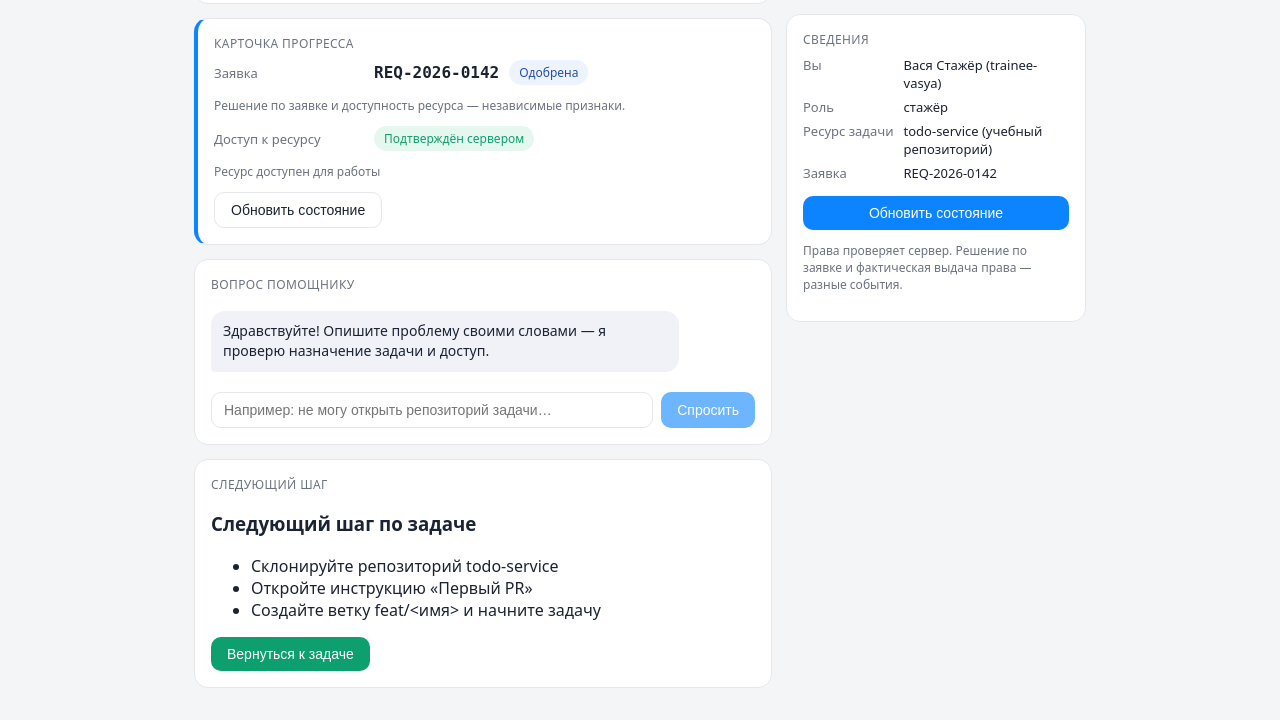
F4: восстановление и следующий шаг › кнопка «Вернуться к задаче» отправляет событие с ID заявки и фиксирует его
(page scrolled)
Click the button with test id "return-to-task" at point(290, 654), box [211, 637, 370, 671]
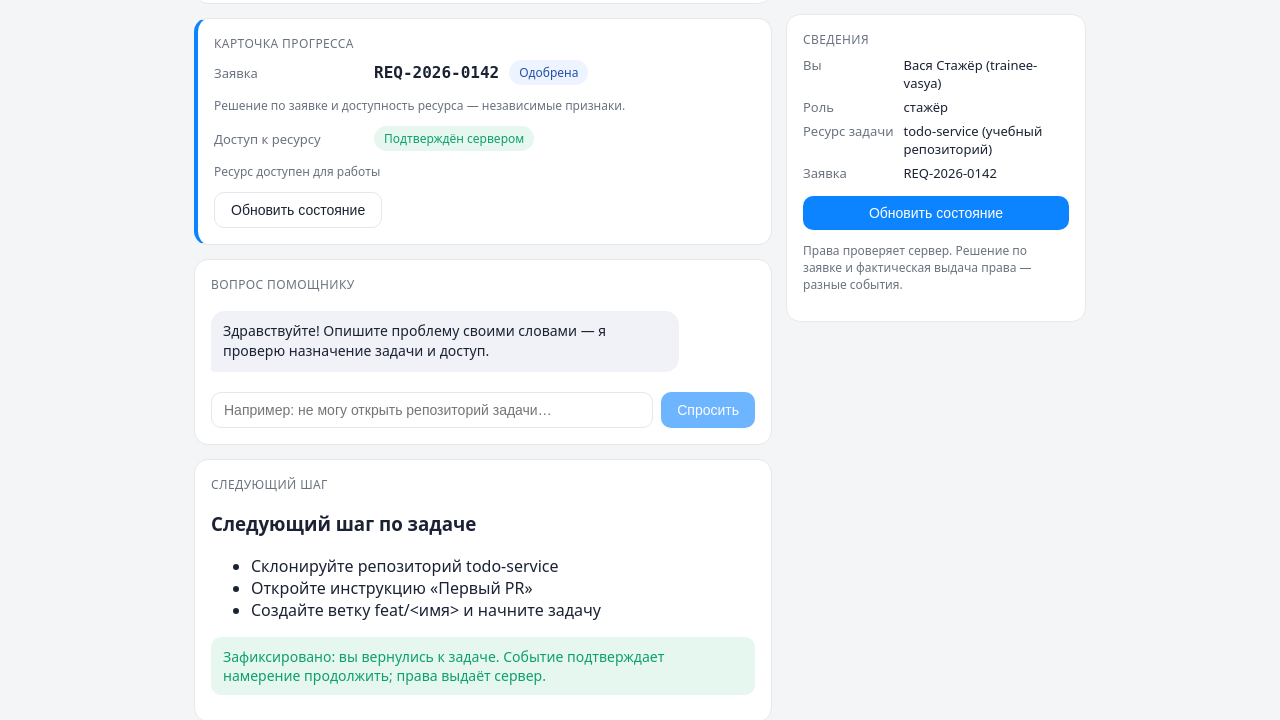
Now the message with test id "return-recorded" is shown, box [211, 637, 755, 695]
